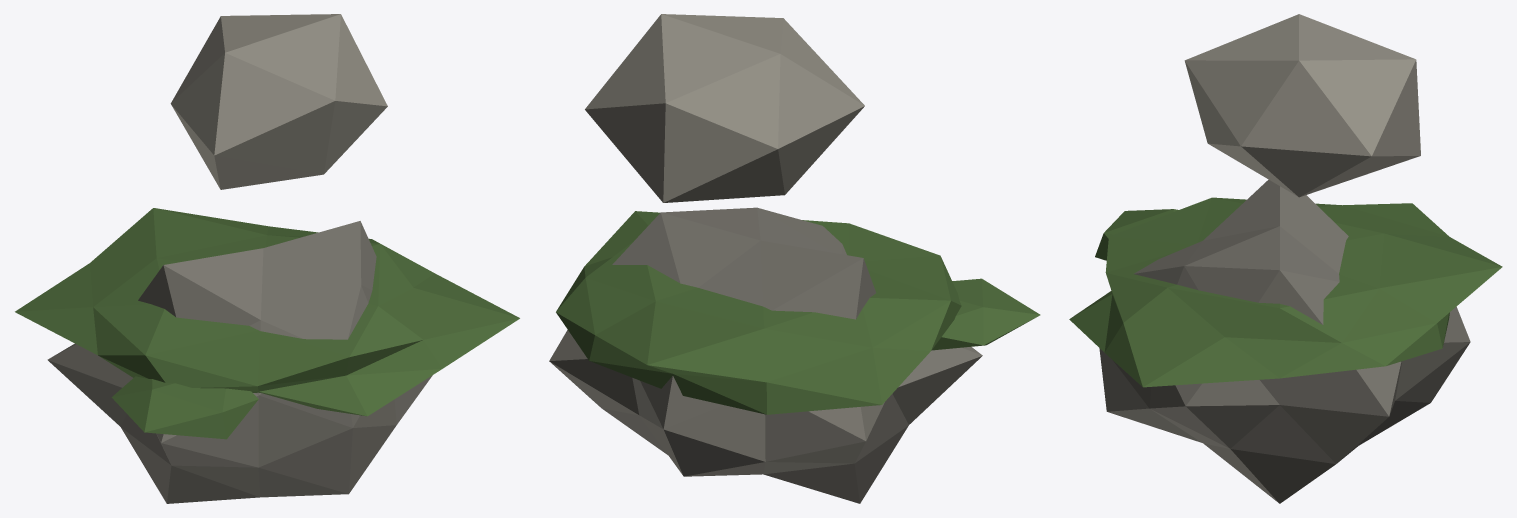
The model's file is land-forest-23.glb.
3 views of the same model, side by side, from view 1: azimuth 30°, elevation 25°; view 2: azimuth 150°, elevation 25°; view 3: azimuth 270°, elevation 25° (orthographic). The views are drawn at different scales.
Visible parts, largest first — view 1: land.forest.23; view 2: land.forest.23; view 3: land.forest.23.
Boxes of the visible parts, x1,y1,x2,y2 form: land.forest.23: [15, 14, 519, 503]; land.forest.23: [549, 14, 1040, 503]; land.forest.23: [1069, 14, 1502, 503].
Bounding box in the file's own units: 1.09 × 1.18 × 1.05.
